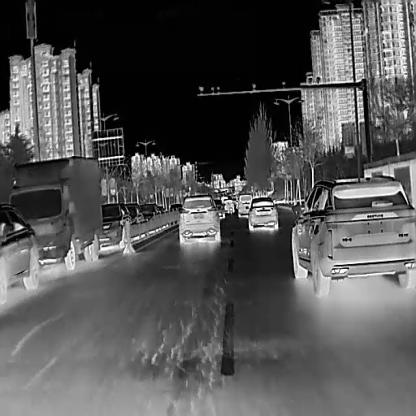car: (290, 173, 415, 300), (0, 202, 38, 305), (176, 192, 219, 242), (100, 202, 131, 246), (244, 193, 278, 230), (122, 202, 146, 236), (138, 202, 160, 228), (235, 194, 251, 216), (212, 198, 225, 219), (169, 202, 181, 220), (222, 198, 234, 213)
truck: (7, 155, 102, 270)
